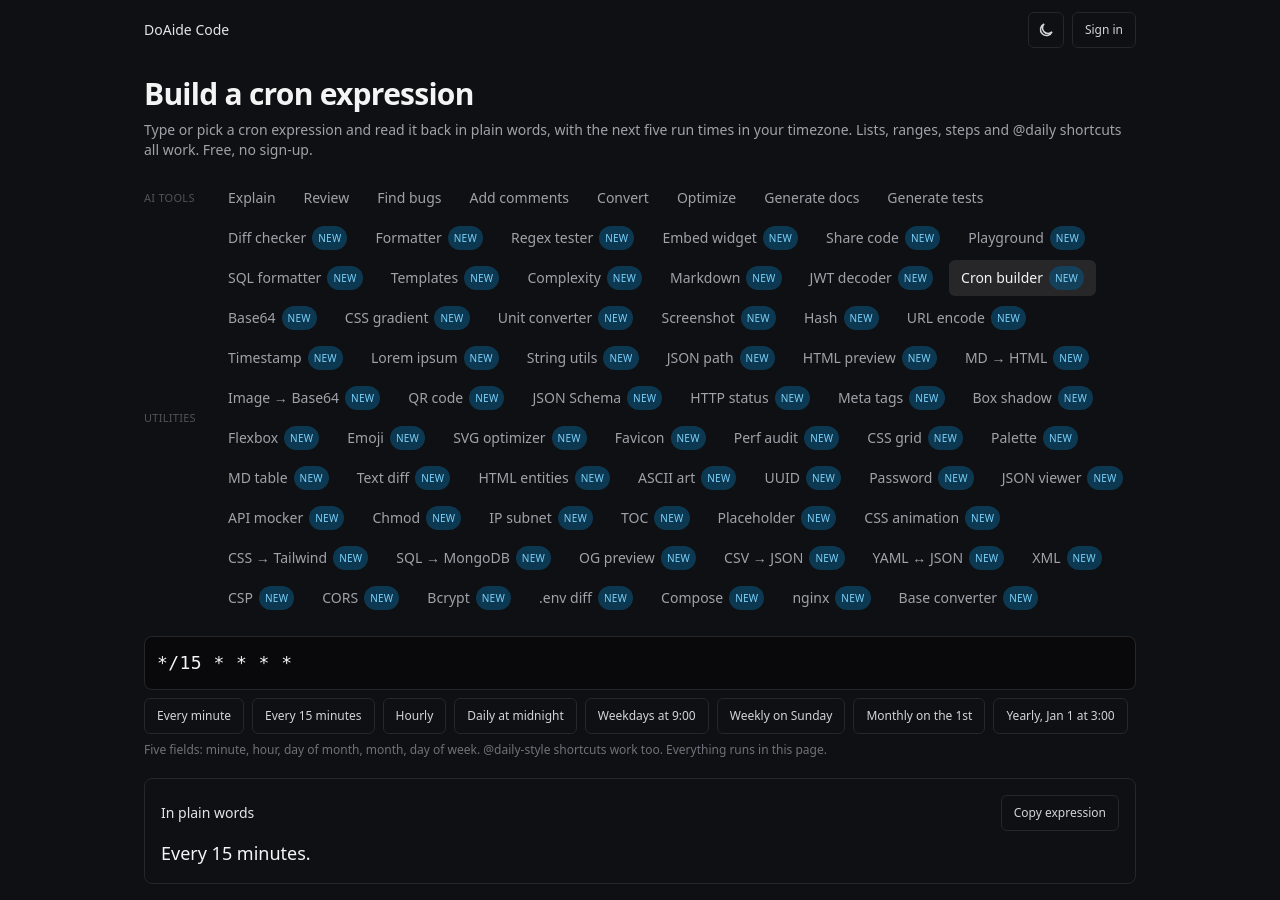
Test: CronPage › applies a preset on click
Step 1. Click the button "Daily at midnight" → (516, 716), box [454,698,577,734]
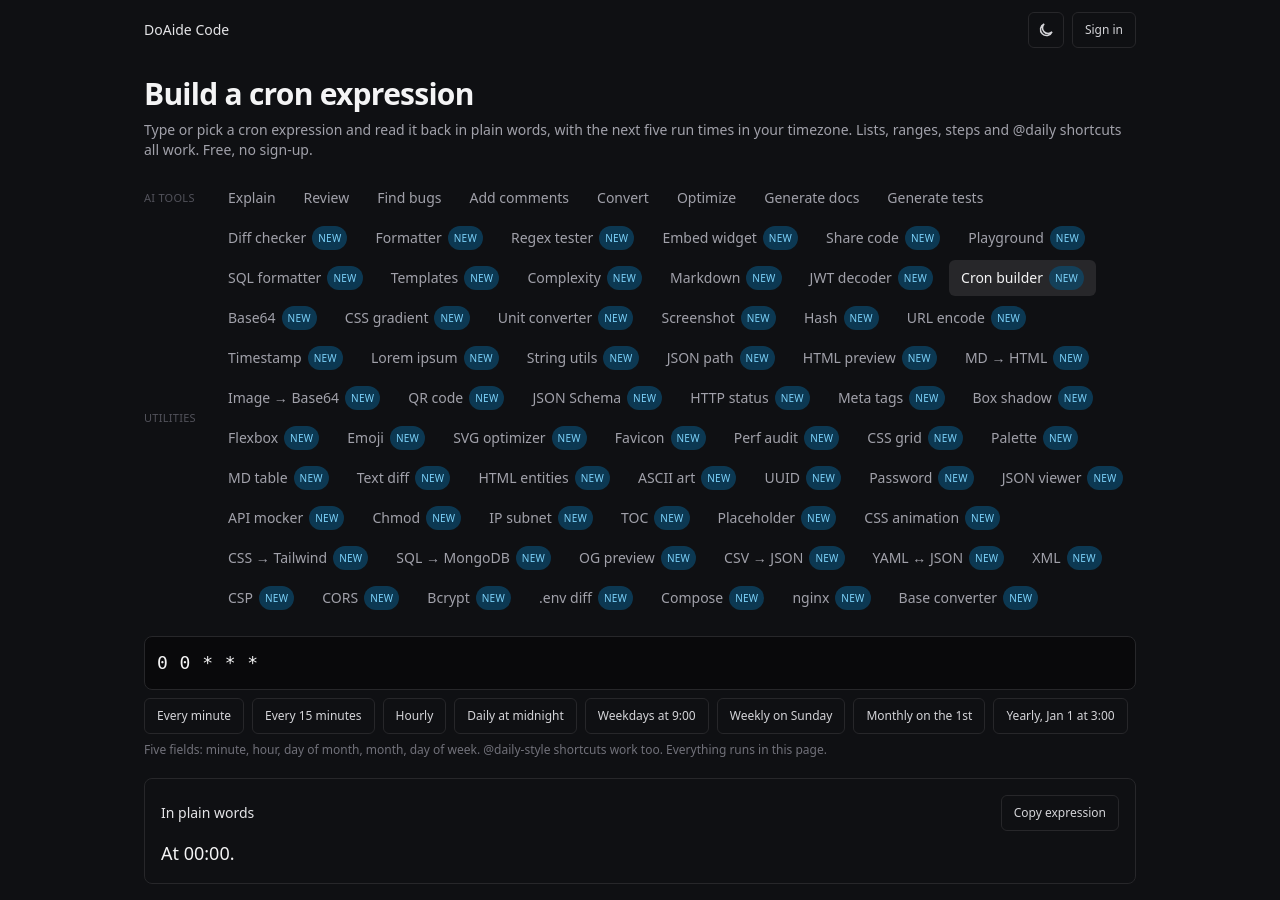
expect the field with test id "cron-in" holds "0 0 * * *": met, box [144,636,1136,690]
expect the text with test id "cron-description" reads "At 00:00.": met, box [161,841,234,865]
